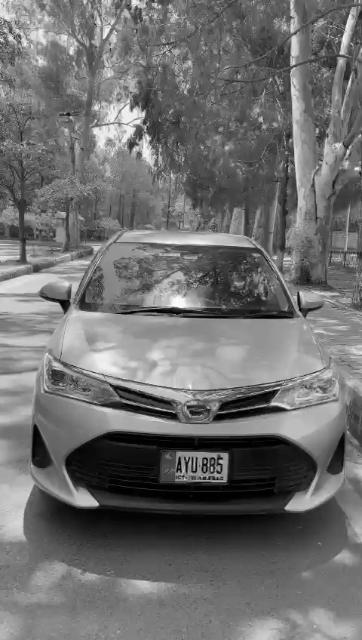Number: (176, 456, 224, 476)
